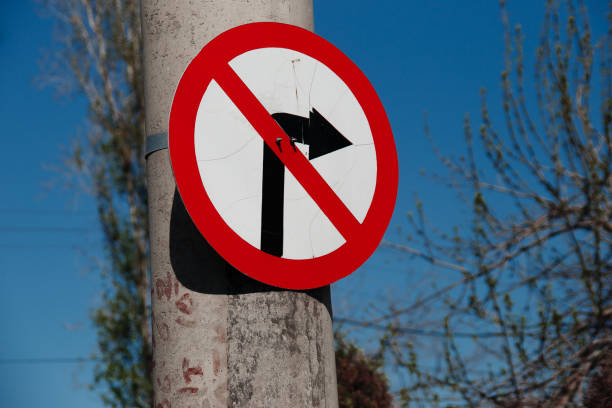saga_girilmez: (170, 23, 392, 291)
